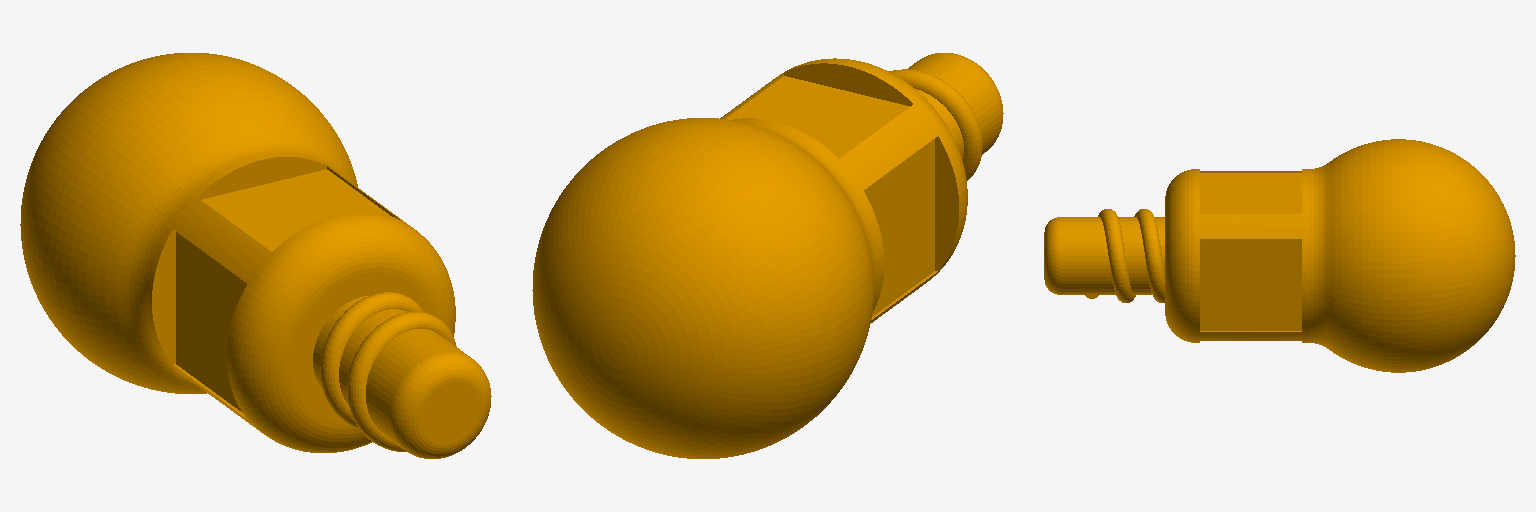
URDF robot description (lamp_bulb):
<?xml version="1.0"?>
<robot name="lamp_bulb">
    <link name="lamp_bulb">
        <visual>
            <geometry>
                <mesh filename="../mesh/lamp/lamp_bulb.obj" scale="1 1 1"/>
            </geometry>
        </visual>
        <collision>
            <geometry>
                <mesh filename="../mesh/lamp/lamp_bulb.obj" scale="1 1 1"/>
            </geometry>
            <sdf resolution="512"/>
        </collision>
    </link>
</robot>

--- Render facts (derived) ---
The picture shows the robot from 3 angles, left to right: view 1: azimuth 30°, elevation 25°; view 2: azimuth 150°, elevation 25°; view 3: azimuth 270°, elevation 25°; orthographic projection.
Model lamp_bulb with 1 links and 0 joints (none), rooted at lamp_bulb, posed every joint at zero.
Visible links, largest first — view 1: lamp_bulb; view 2: lamp_bulb; view 3: lamp_bulb.
Link boxes in pixels (<box>): lamp_bulb: <box>20,53,491,458</box>; lamp_bulb: <box>532,53,1003,458</box>; lamp_bulb: <box>1044,139,1515,372</box>.
Size in the robot's own frame: 0.06 by 0.121 by 0.06 metres.
1 mesh visuals loaded from 1 distinct referenced files (1 OBJ).